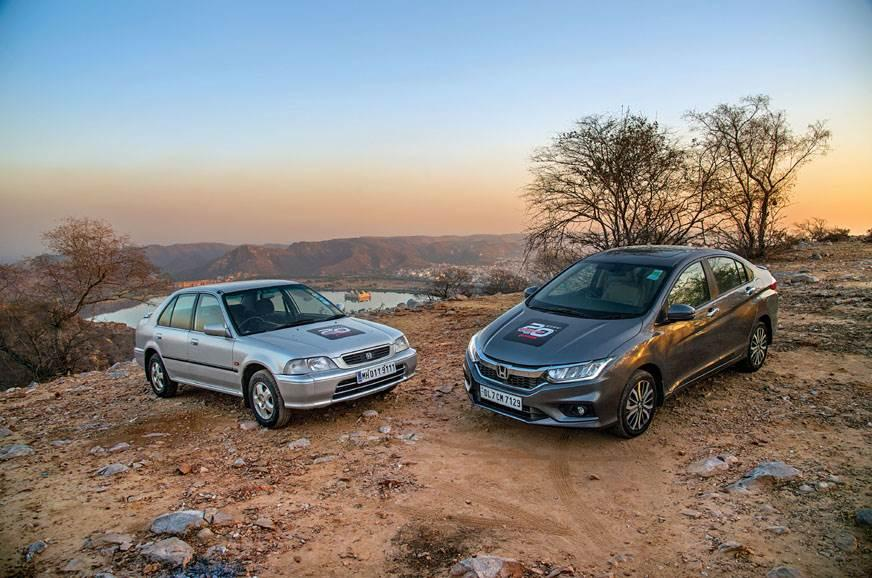car: (455, 226, 790, 468), (101, 258, 432, 459)
